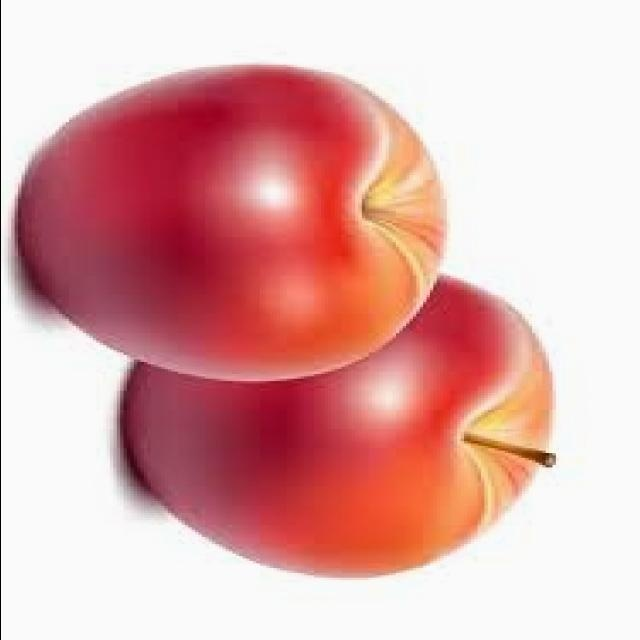agrume: (44, 259, 573, 581), (16, 51, 484, 381)
